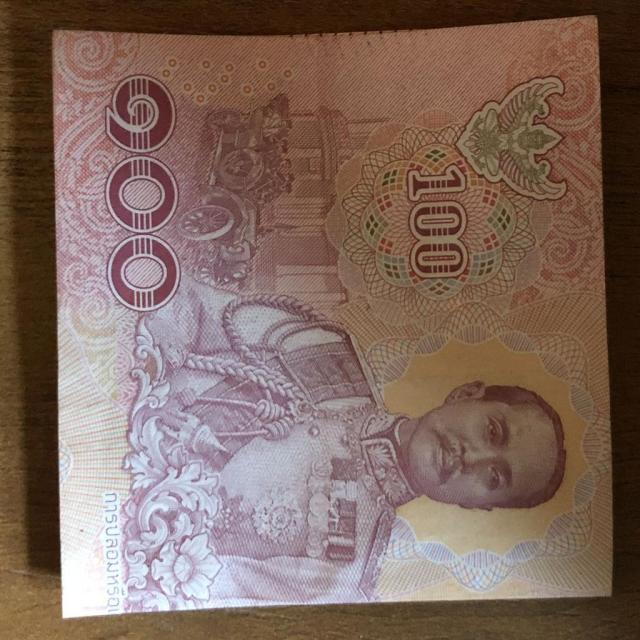THAI100: (53, 17, 612, 616)
